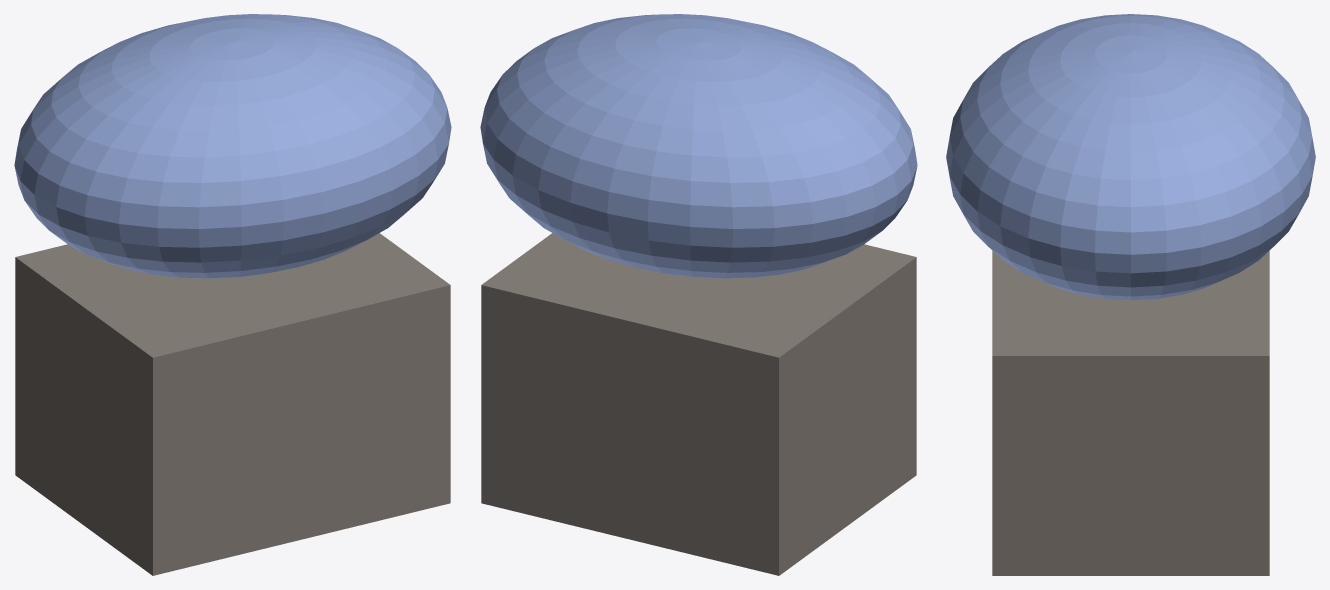
Rendered from library_db.glb.
3 views of the same model, side by side, from view 1: azimuth 30°, elevation 25°; view 2: azimuth 150°, elevation 25°; view 3: azimuth 270°, elevation 25° (orthographic).
Visible parts, largest first — view 1: Library_Base, Library_Dome; view 2: Library_Base, Library_Dome; view 3: Library_Dome, Library_Base.
Part boxes in pixels (x1,y1,x2,y2): Library_Base: [15, 233, 450, 575]; Library_Dome: [14, 14, 451, 278]; Library_Base: [481, 233, 916, 575]; Library_Dome: [480, 14, 917, 278]; Library_Dome: [946, 14, 1315, 300]; Library_Base: [992, 251, 1269, 575].
Bounding box in the file's own units: 1.6 × 1.72 × 1.28.
